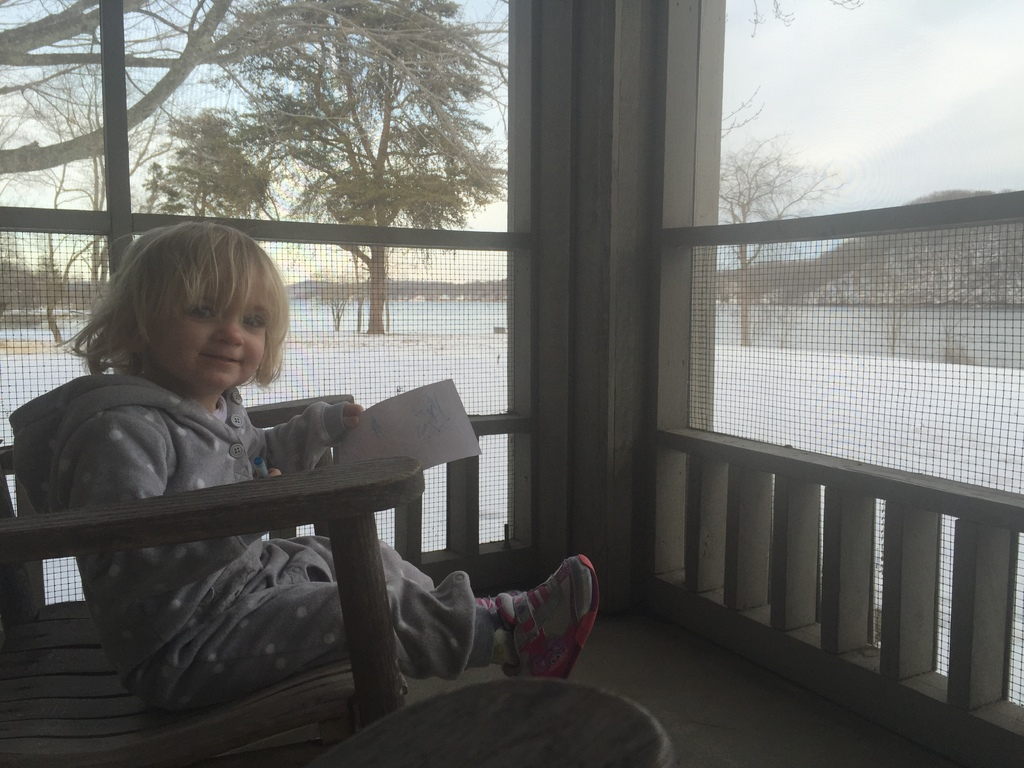Human_hand: (342, 400, 370, 434), (251, 466, 285, 479)
